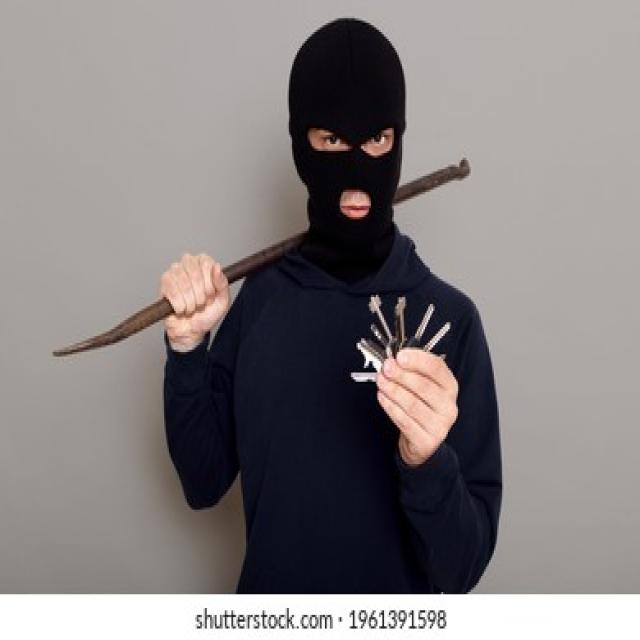6_pasamontana: (288, 17, 407, 280)
